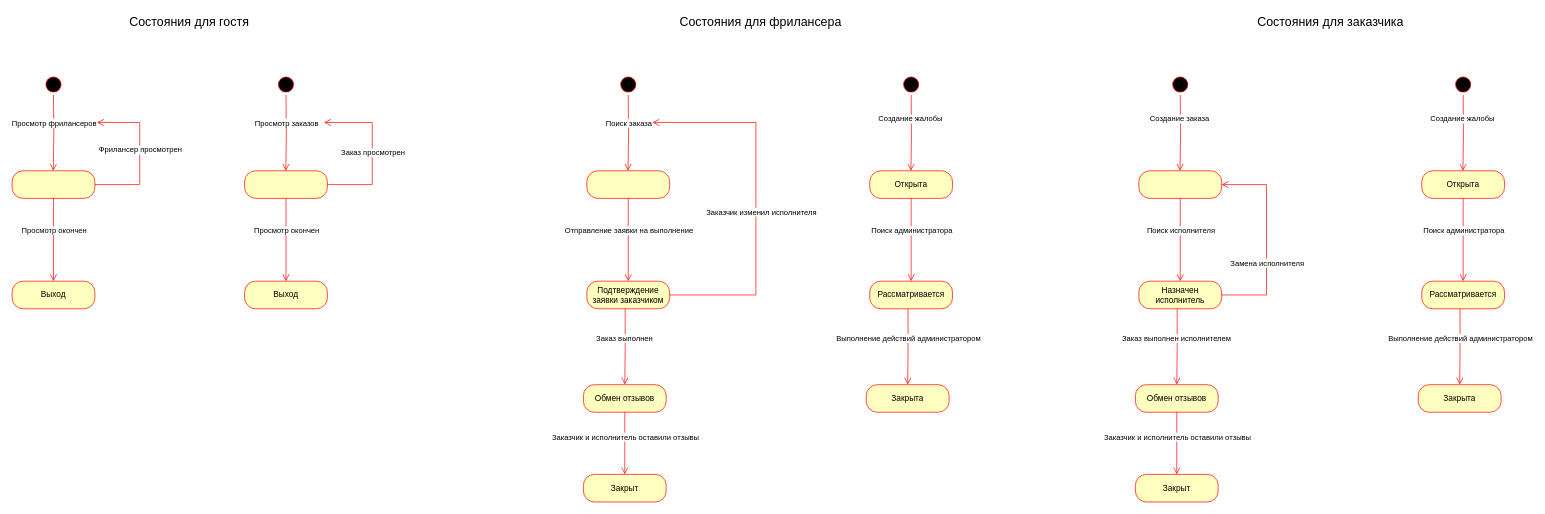
Some shapes in this 1545 by 514 pixel diagram are drawn without their labels. The centre of each missing label's shape, as x and y in pixels:
"Заказ найден" belongs at (628,184).
"Открыт" belongs at (1180,184).
"Просмотр конкретного заказа" belongs at (285,184).
"Просмотр конкретного фрилансера" belongs at (53,184).
